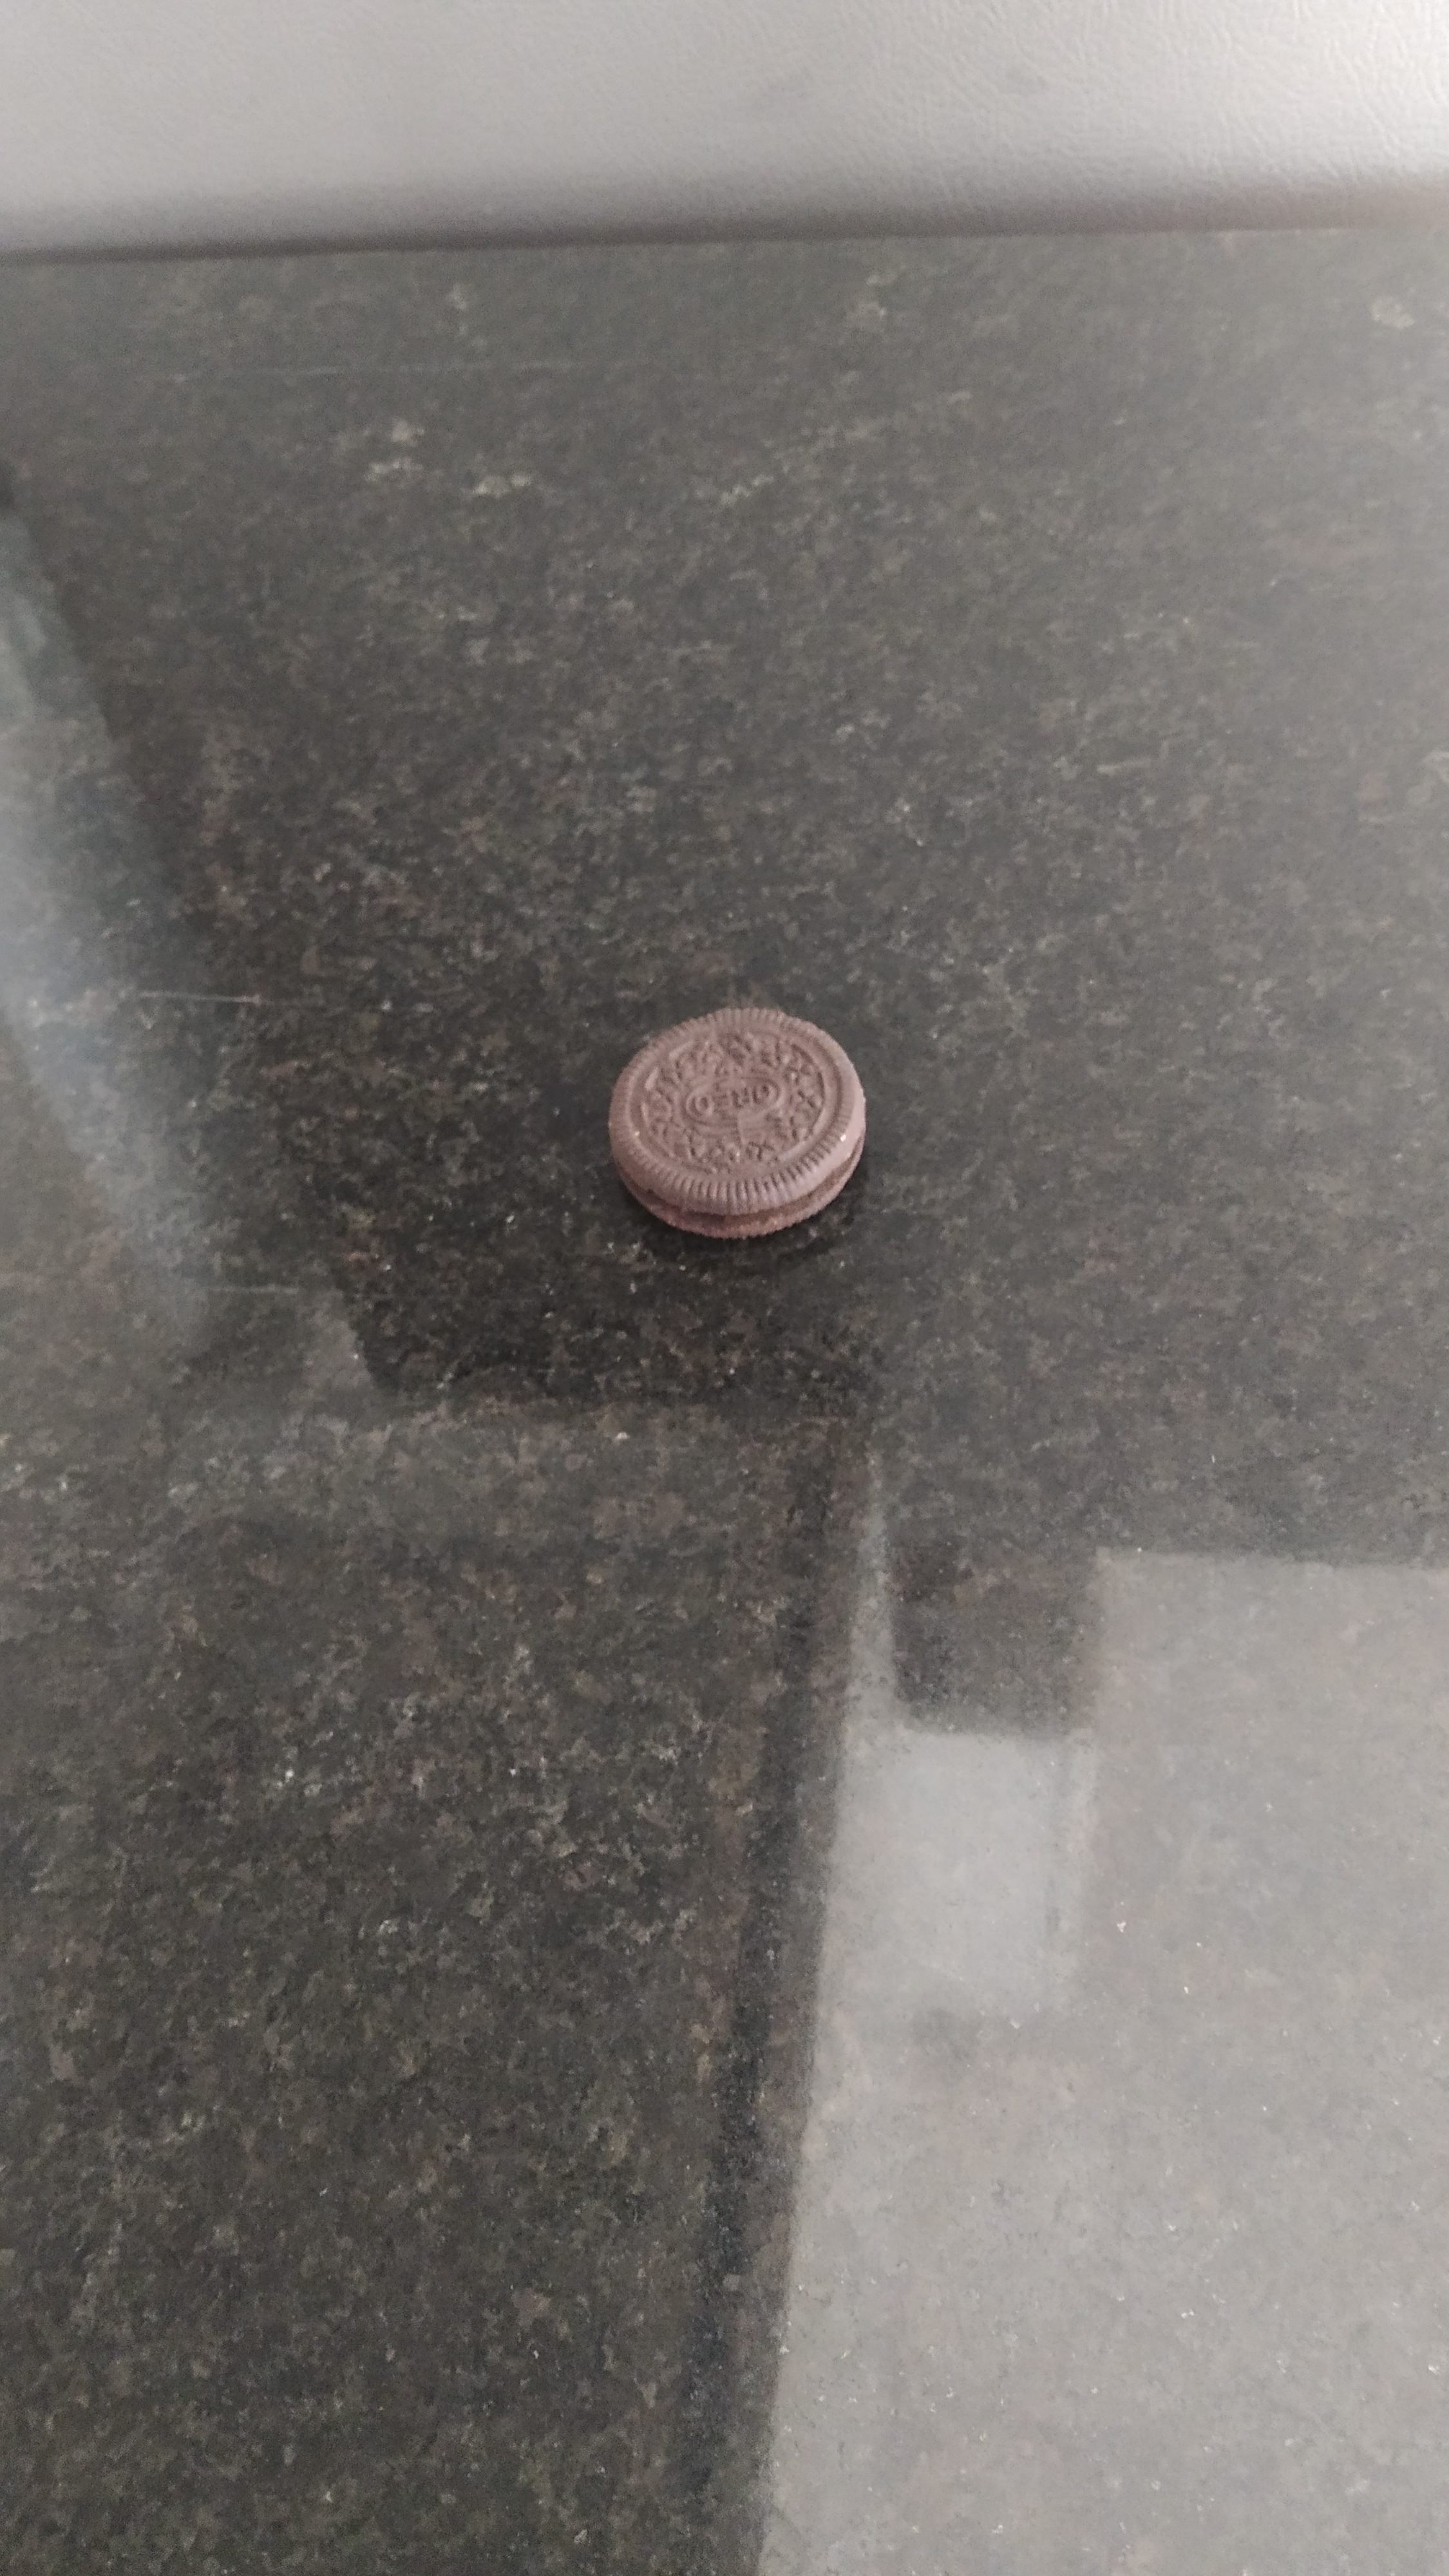oreo: (609, 1005, 867, 1238)
